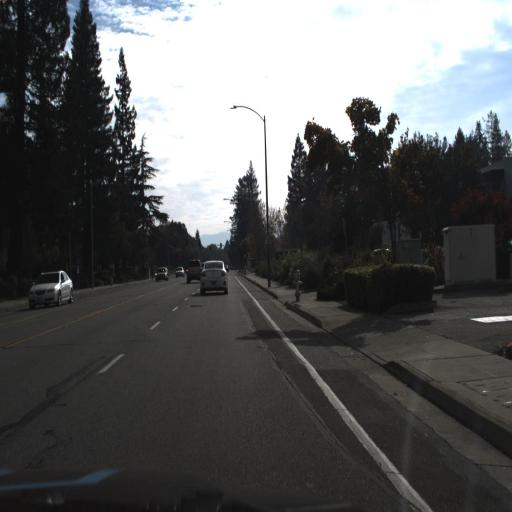car: (28, 267, 74, 310), (200, 259, 227, 294), (185, 258, 202, 284), (155, 266, 170, 282)
